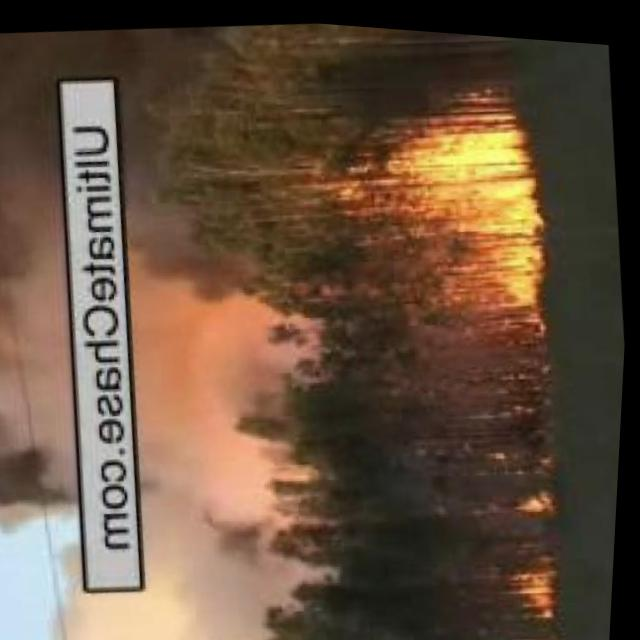Fire: (356, 70, 557, 325), (507, 550, 568, 618), (512, 474, 559, 517)
